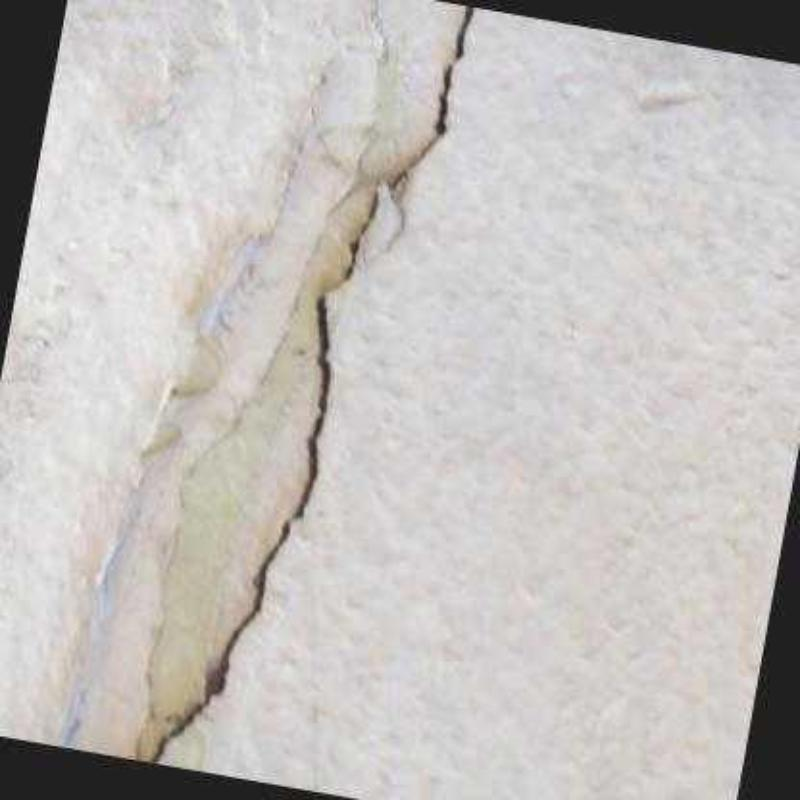crack: (150, 6, 474, 764)
